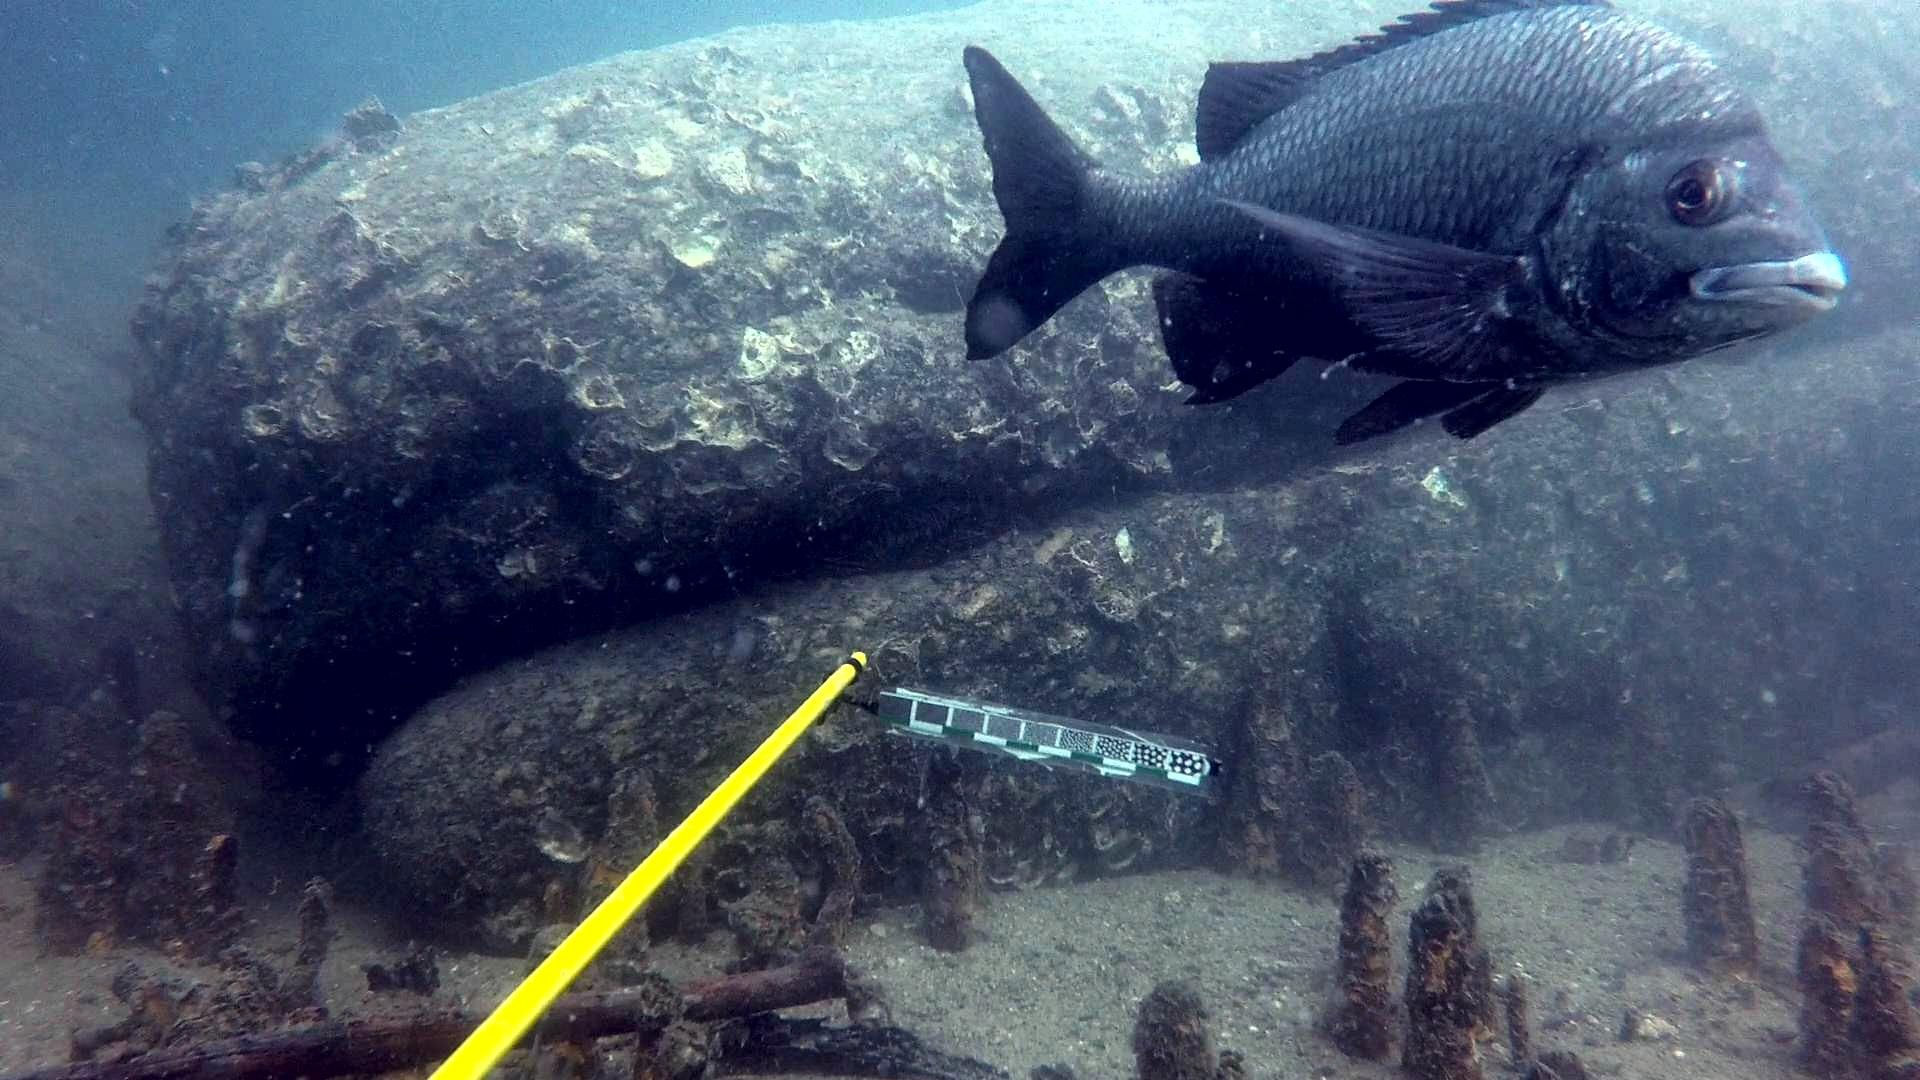acanthopagrus palmaris: (945, 0, 1851, 442)
